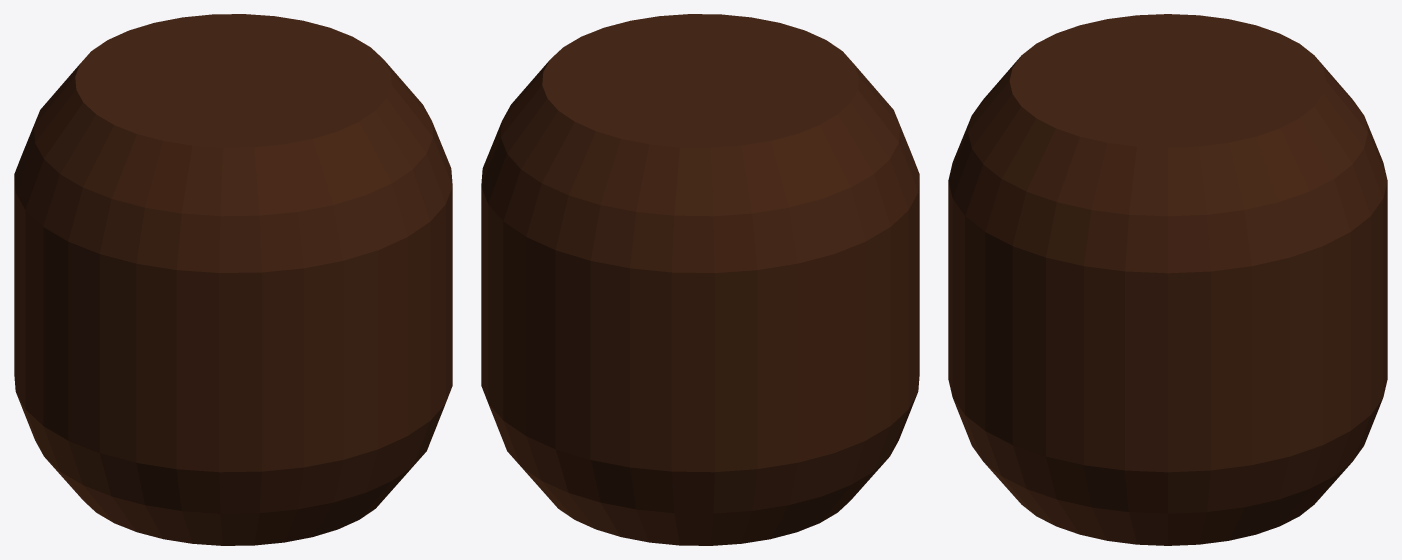
File: Barrel1WIP.fbx
3 views of the same model, side by side, from view 1: azimuth 30°, elevation 25°; view 2: azimuth 150°, elevation 25°; view 3: azimuth 270°, elevation 25° (orthographic).
Visible parts, largest first — view 1: Barrel; view 2: Barrel; view 3: Barrel.
Boxes of the visible parts, bbox=[...] form: Barrel: bbox=[14, 14, 452, 545]; Barrel: bbox=[481, 14, 919, 545]; Barrel: bbox=[948, 14, 1387, 545].
Bounding box in the file's own units: 135 × 135 × 135.
